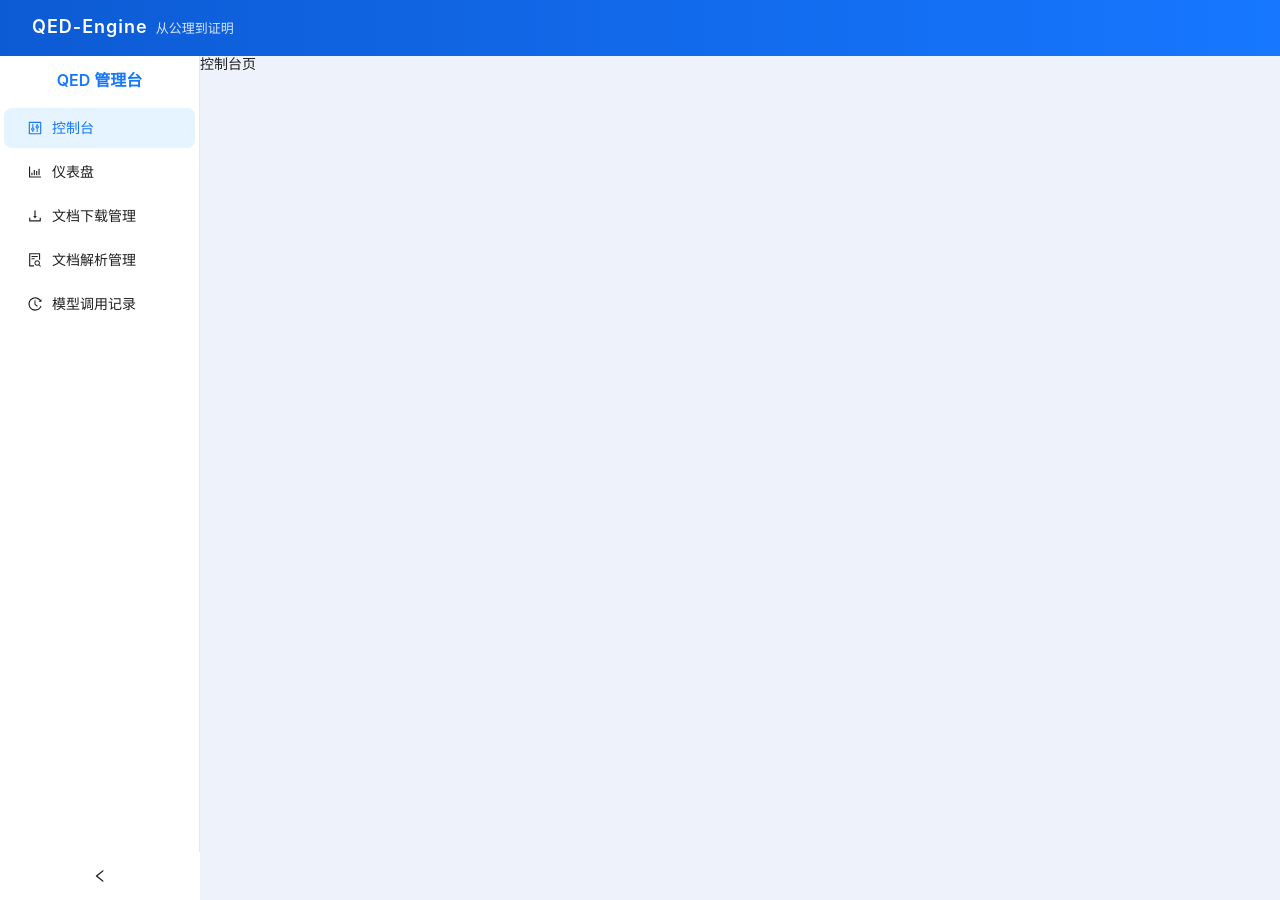
Test: 管理台左侧导航 AdminLayout（Phase 3 反馈） › 默认进入控制台；点击菜单可切换页面
Check: the text "控制台页" is shown, box [200, 55, 256, 72]
Click the menu item "仪表盘" at (61, 172), box [28, 163, 94, 180]
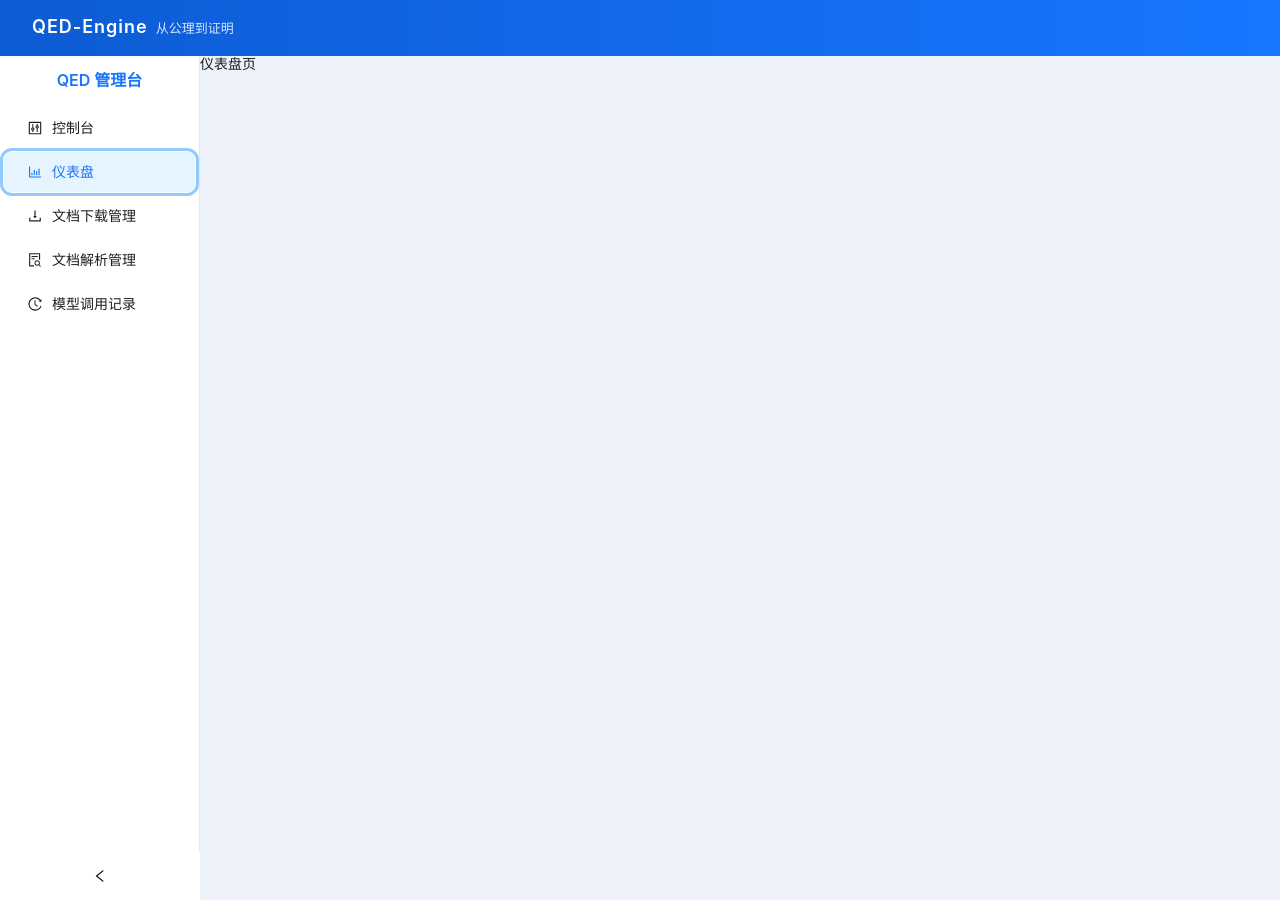
Check: the text "仪表盘页" is shown, box [200, 55, 256, 72]
Click the menu item "文档下载管理" at (82, 216), box [28, 207, 136, 224]
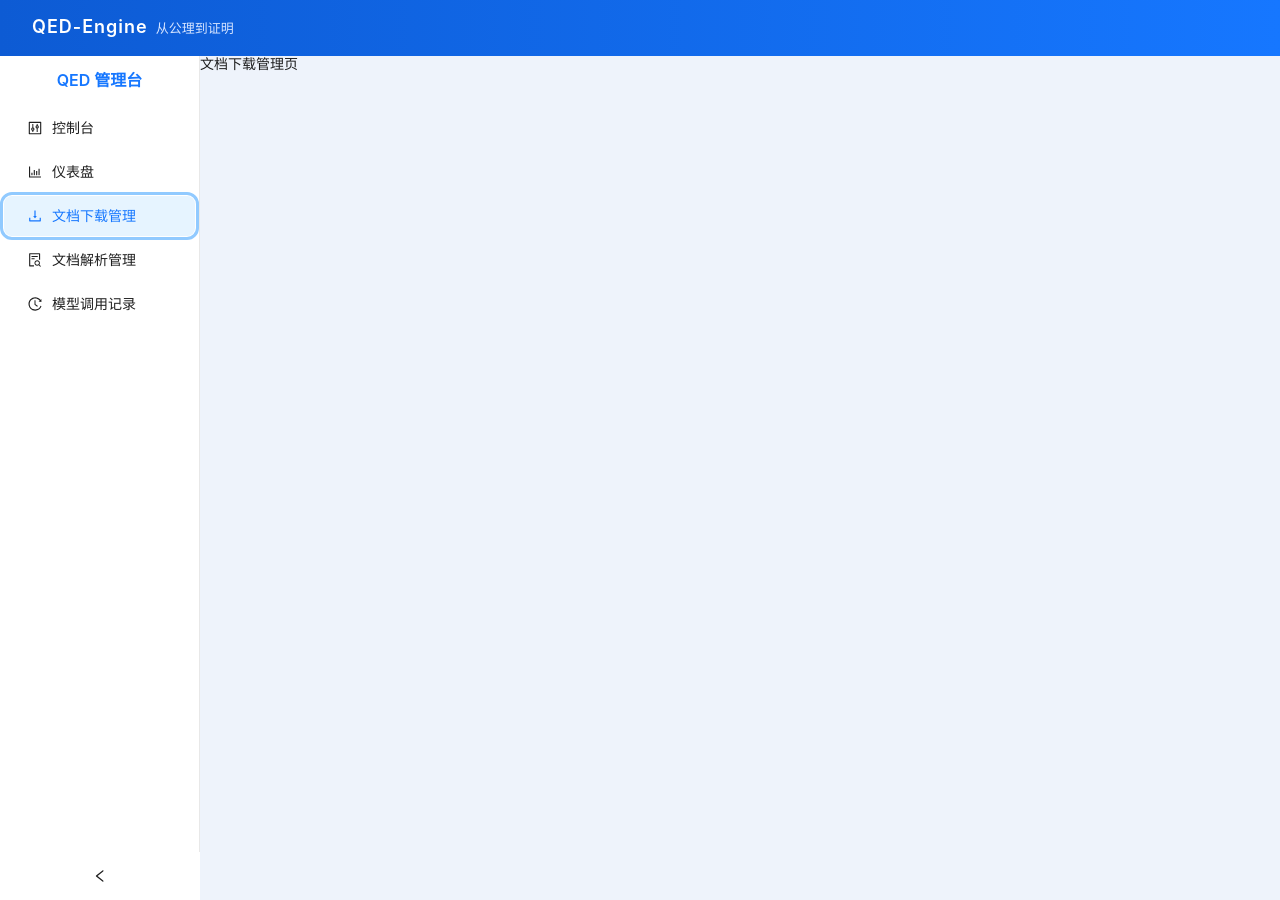
Check: the text "文档下载管理页" is shown, box [200, 55, 298, 72]
Click the menu item "模型调用记录" at (82, 304), box [28, 295, 136, 312]
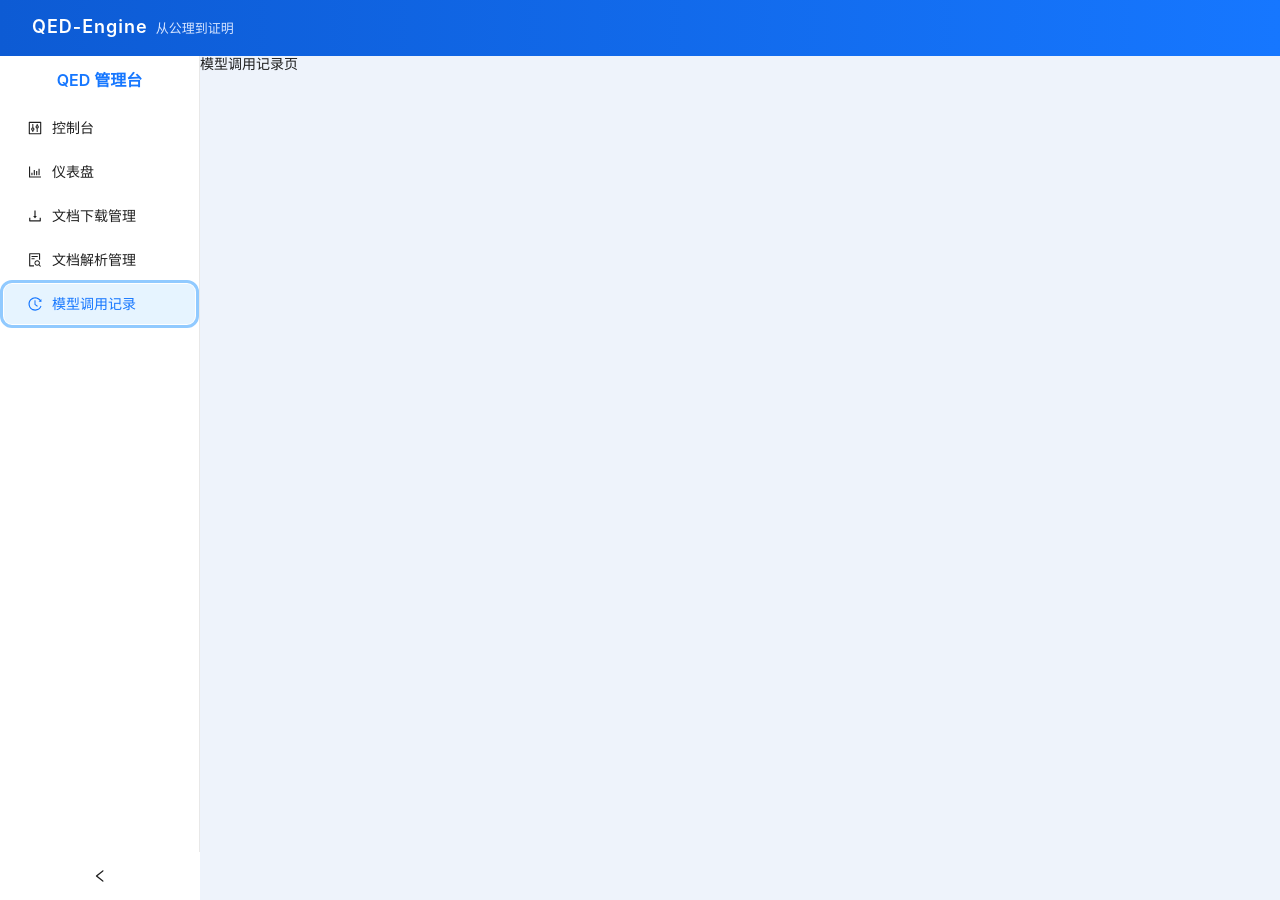
Check: the text "模型调用记录页" is shown, box [200, 55, 298, 72]
Click the menu item "控制台" at (61, 128), box [28, 119, 94, 136]
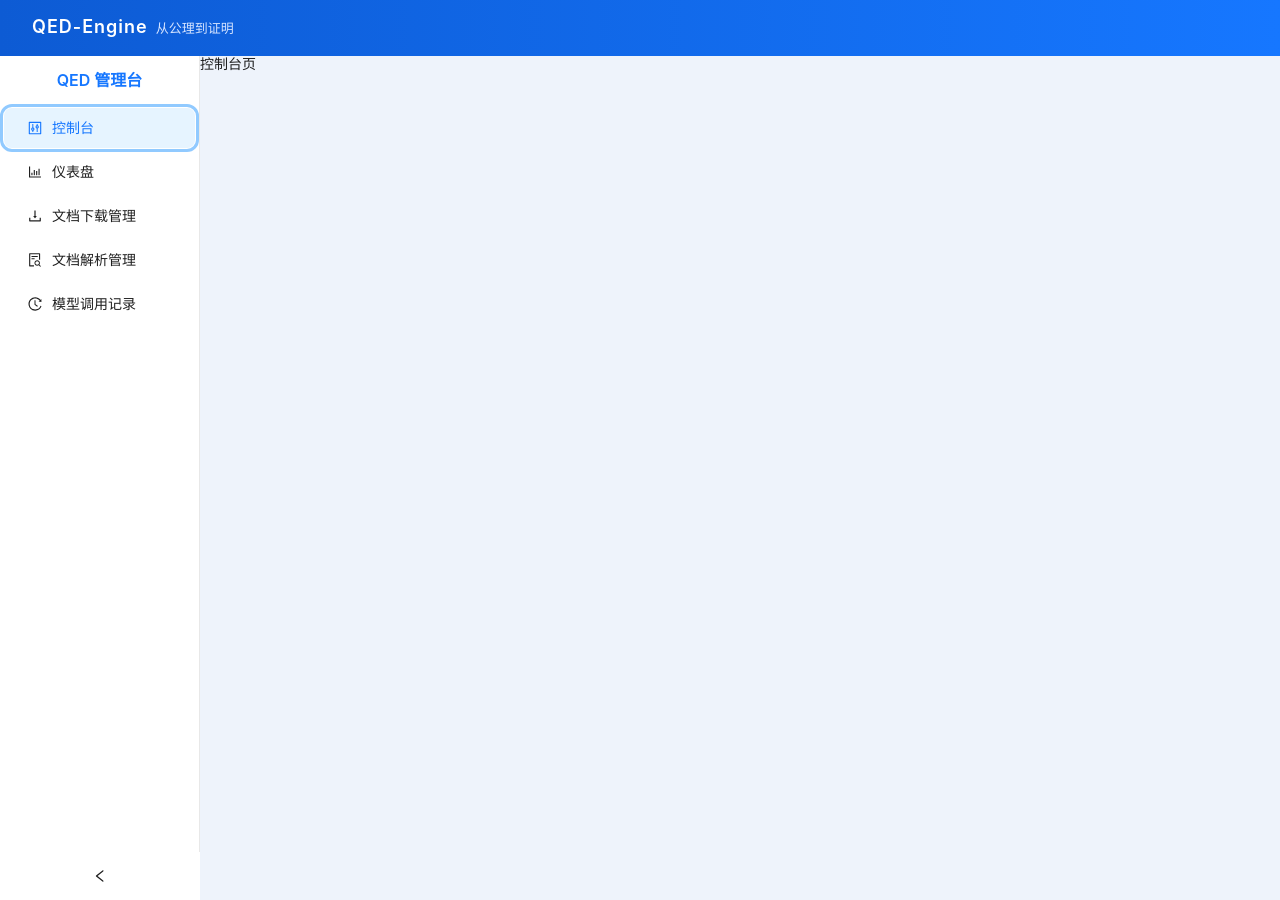
Check: the text "控制台页" is shown, box [200, 55, 256, 72]
